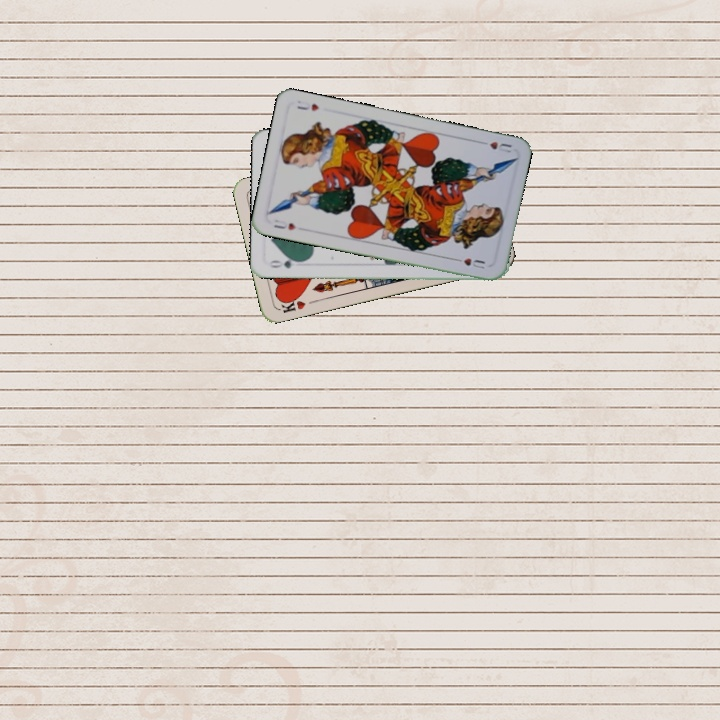GO: (265, 254, 305, 271)
HK: (275, 293, 308, 315)
HU: (475, 137, 514, 156), (270, 215, 299, 233)
